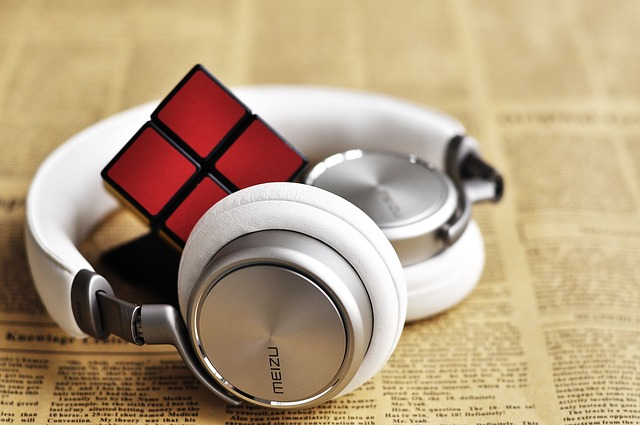headphones: (26, 87, 505, 411)
